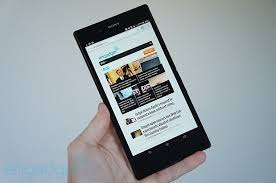sony: (71, 4, 216, 179)
